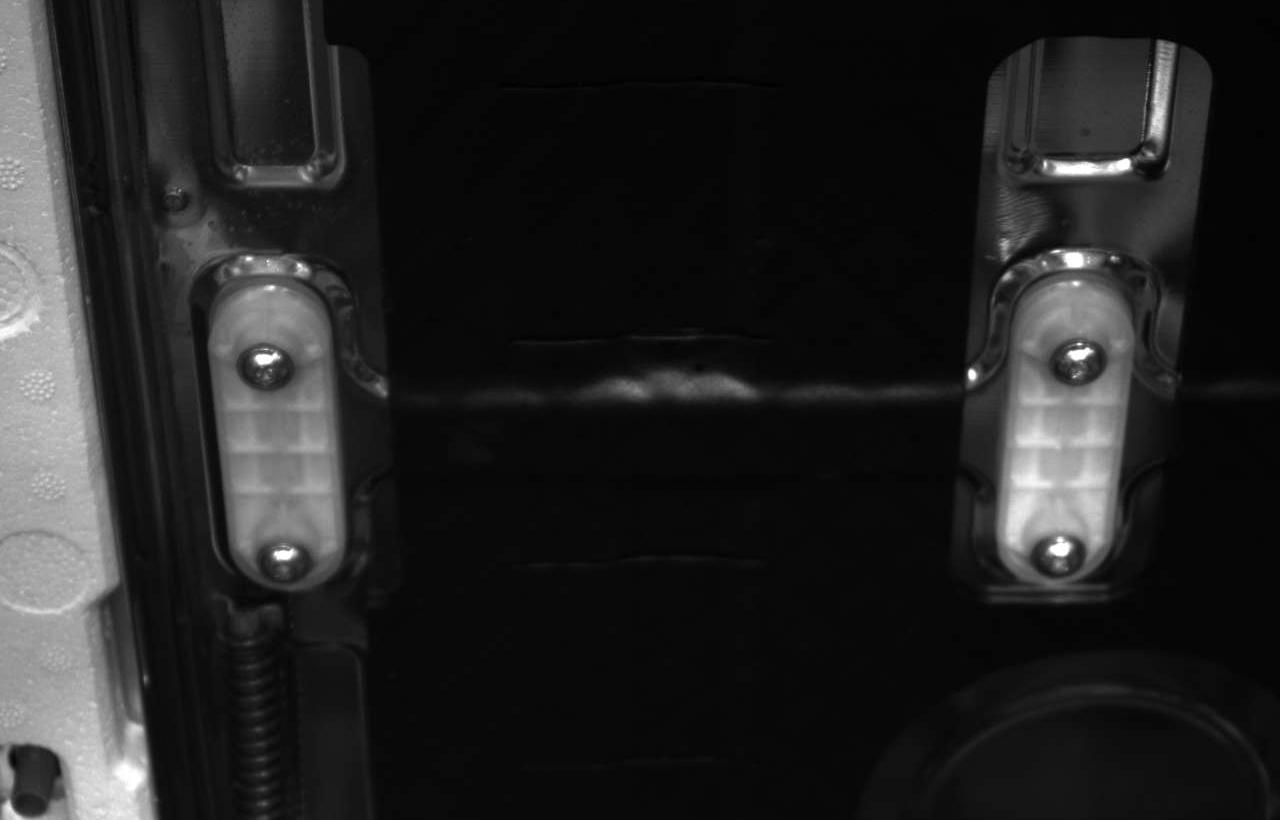vida-ok: (233, 337, 304, 404), (1044, 328, 1111, 395), (1026, 518, 1091, 587), (251, 532, 317, 591)
